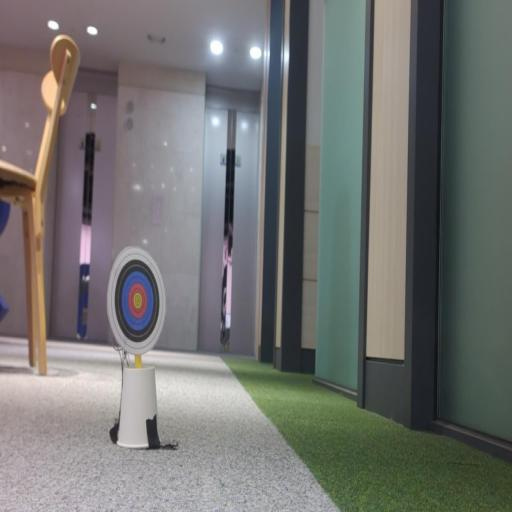target: (107, 247, 166, 354)
